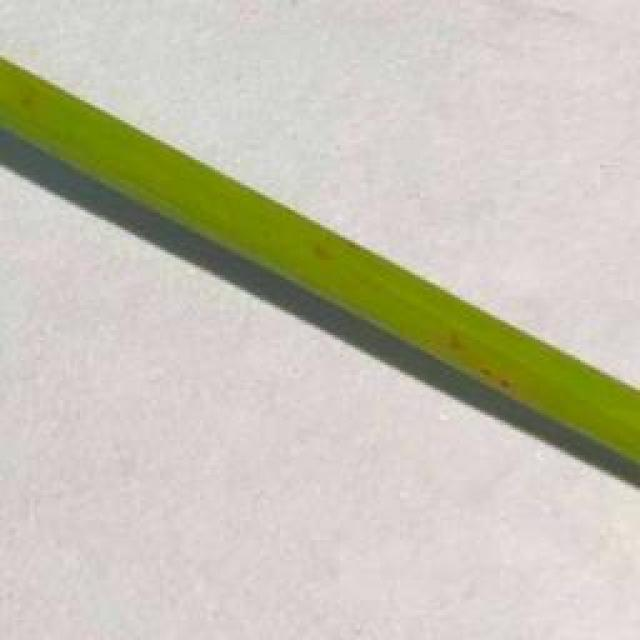Brown_Spot: (488, 363, 525, 407), (437, 326, 472, 359), (317, 246, 341, 268), (14, 90, 36, 108)
